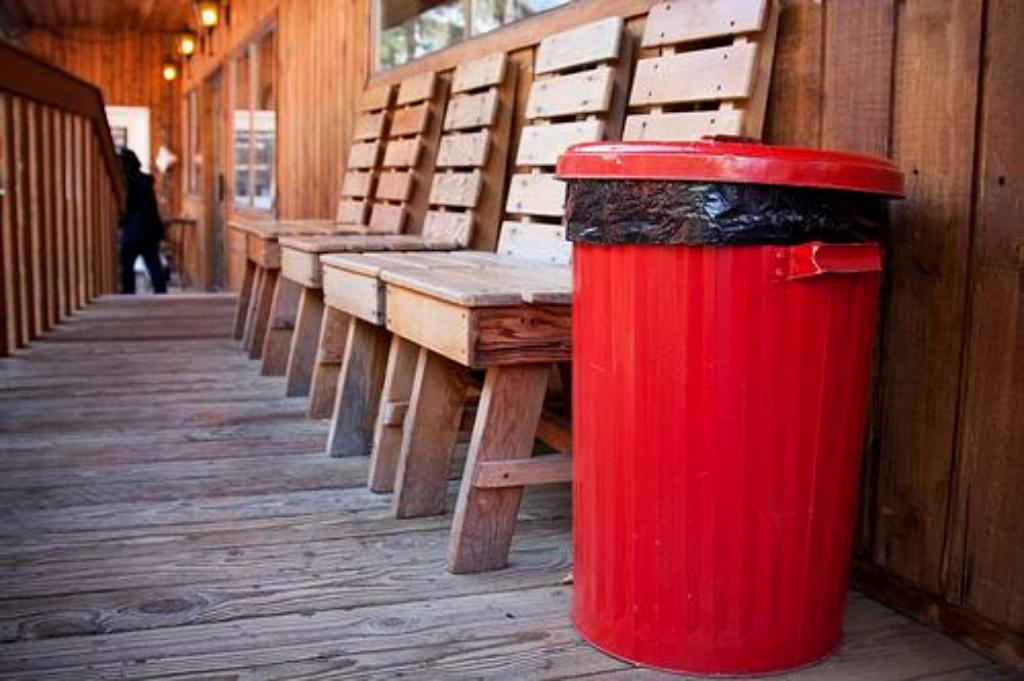dustbin: (555, 125, 899, 678)
